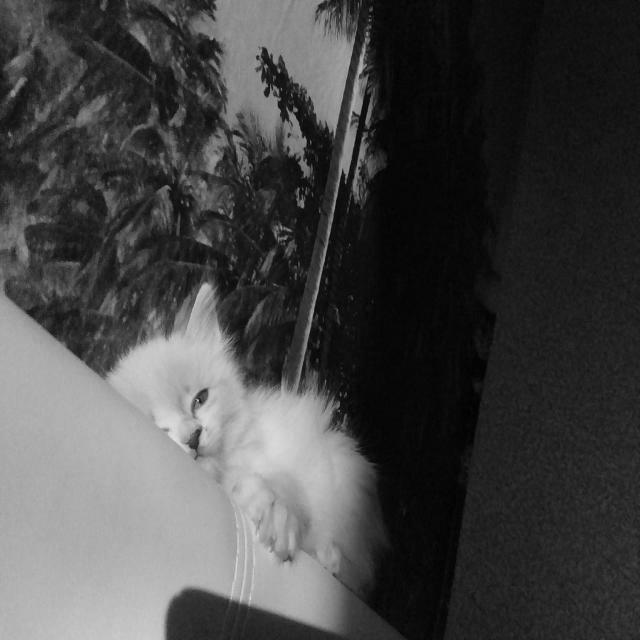Cat: (103, 280, 389, 601)
